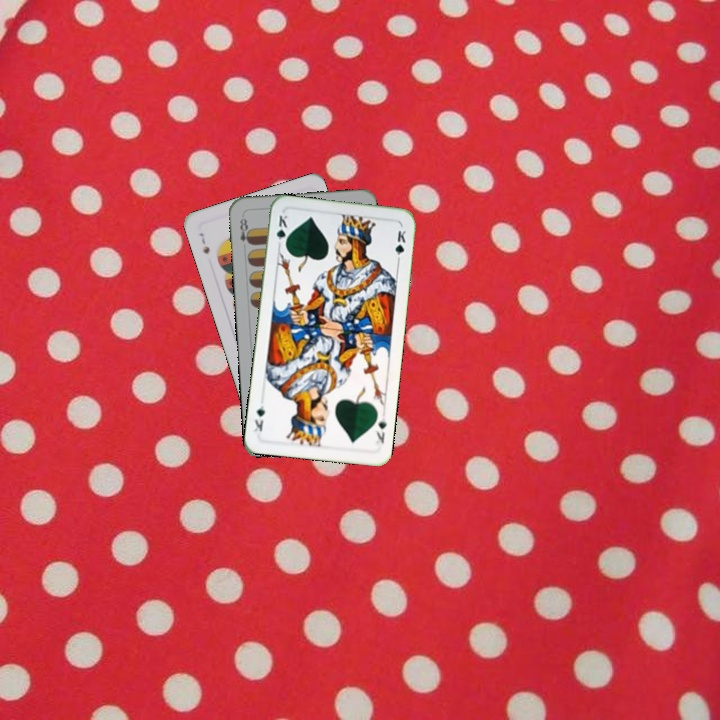E8: (236, 211, 254, 247)
GK: (371, 410, 391, 446), (273, 211, 290, 250)
S7: (195, 229, 212, 257)
